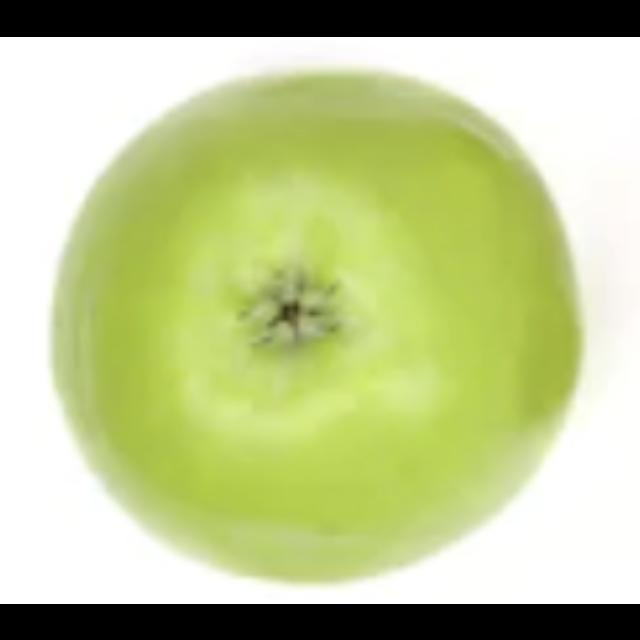Apel Segar: (49, 71, 577, 578)
